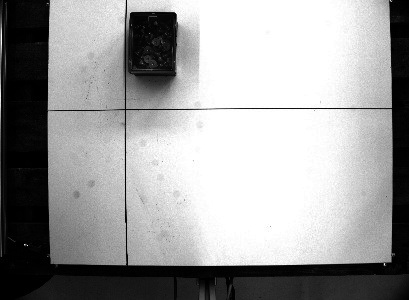klts: (125, 9, 180, 78)
